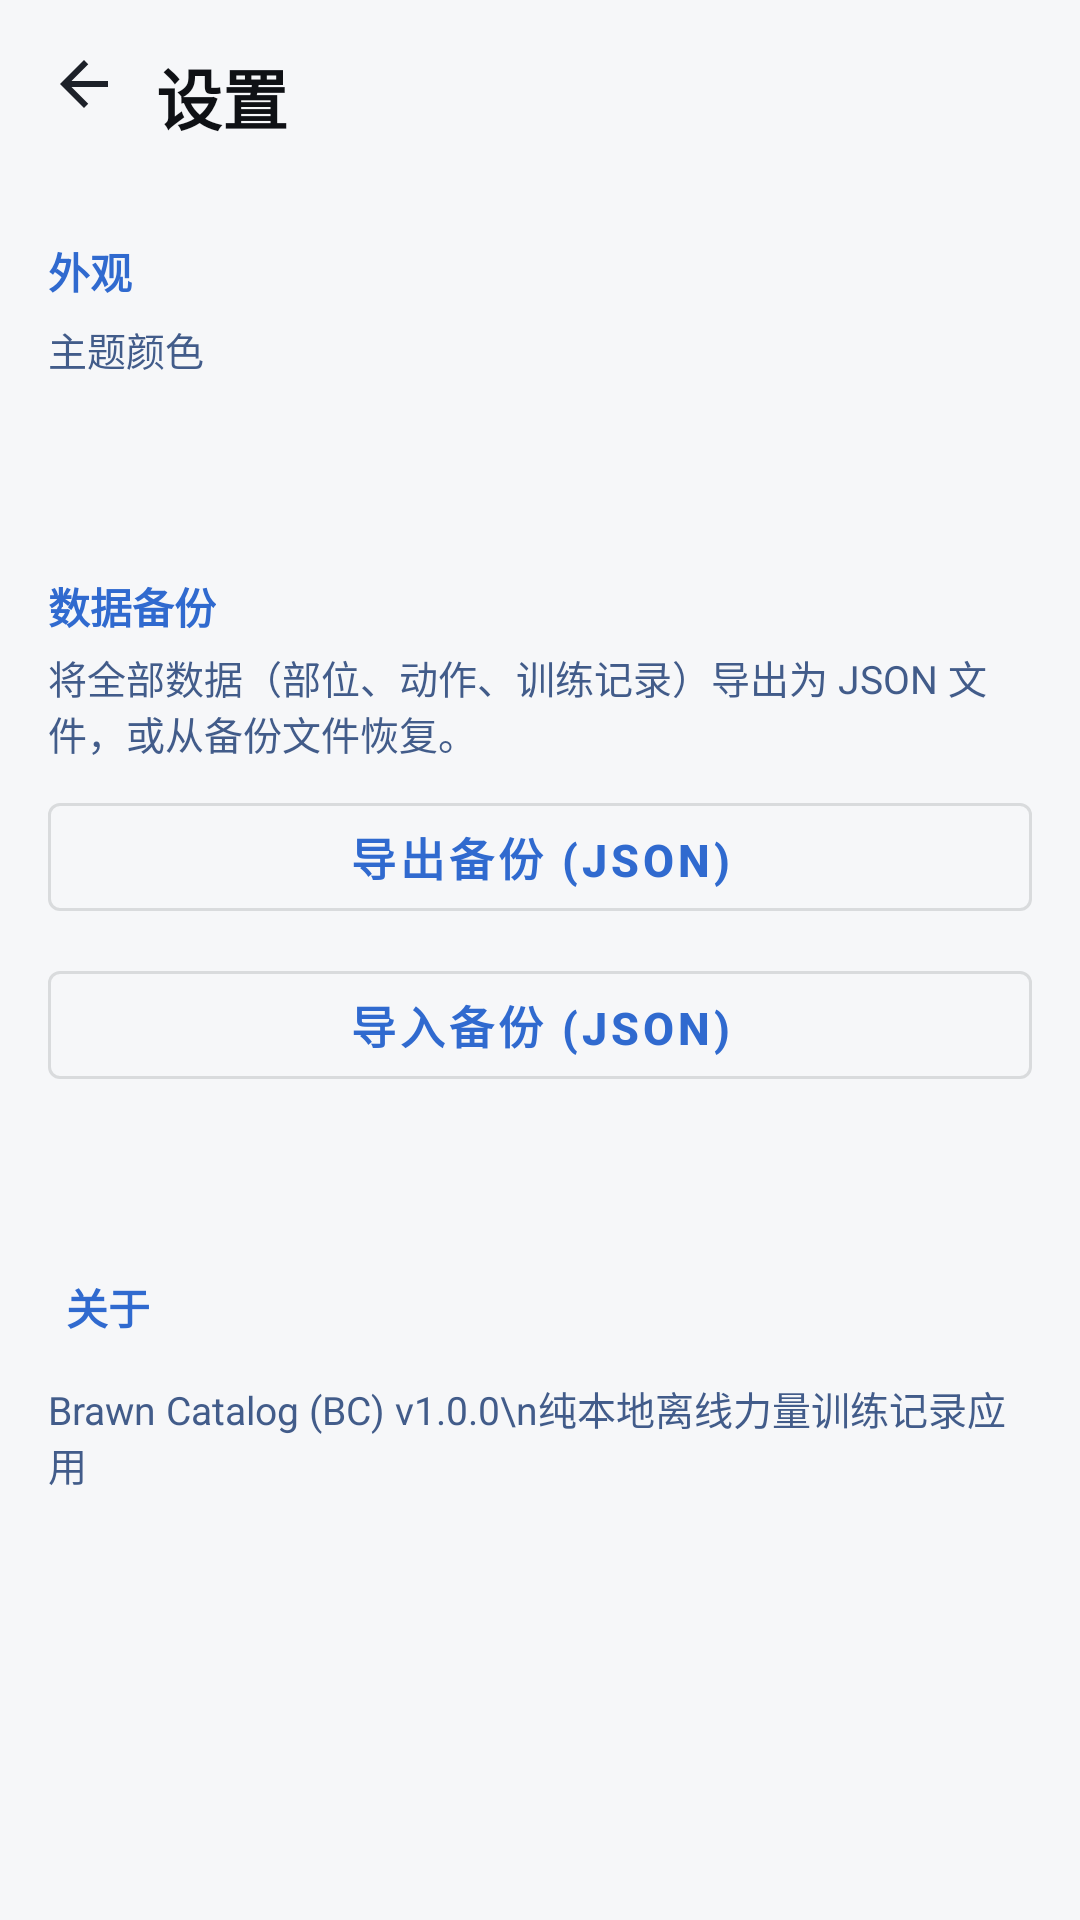

Named icons in this screenshot (1080 × 1920) and their bounding boxes, bbox=[x1, y1, x2, y2]:
返回: bbox=[60, 60, 108, 108]
